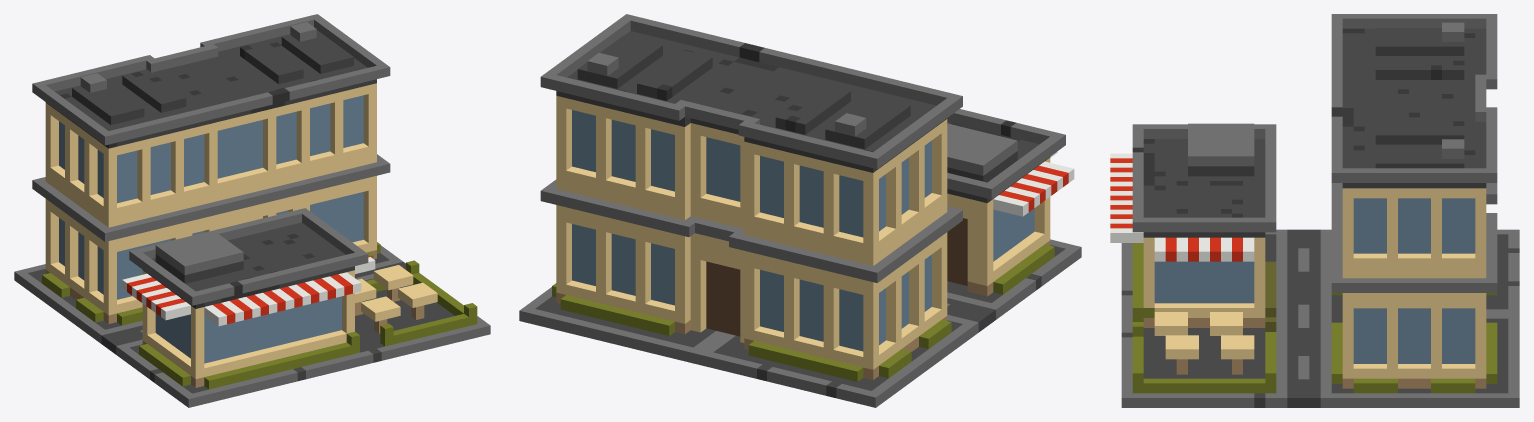
3 renders of one model, left to right at view 1: azimuth 30°, elevation 25°; view 2: azimuth 150°, elevation 25°; view 3: azimuth 270°, elevation 25°, orthographic. The views are drawn at different scales.
Visible parts, largest first — view 1: b_36_01; view 2: b_36_01; view 3: b_36_01.
Boxes of the visible parts, left/top/right/bottom form: b_36_01: left=14, top=14, right=490, bottom=407; b_36_01: left=519, top=14, right=1081, bottom=407; b_36_01: left=1110, top=14, right=1519, bottom=407.
Bounding box in the file's own units: 37 × 24 × 37.
1 material, 1 textured.
